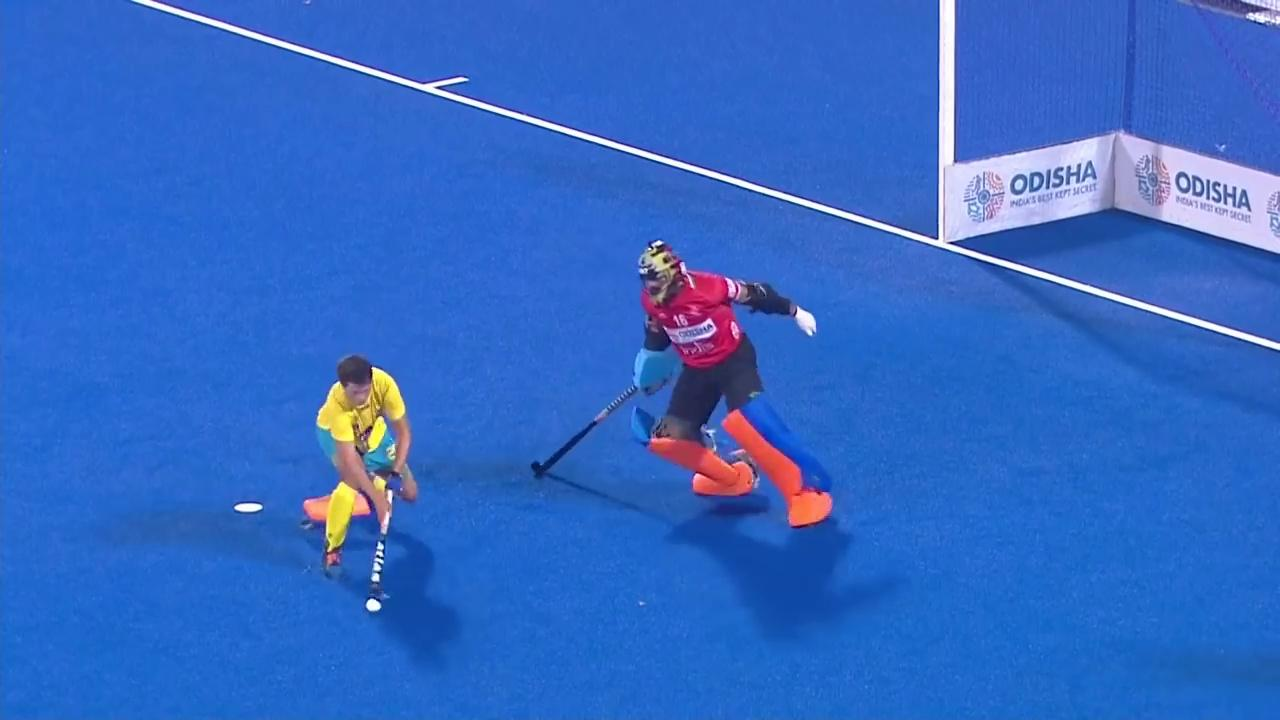ball: (352, 580, 402, 630)
